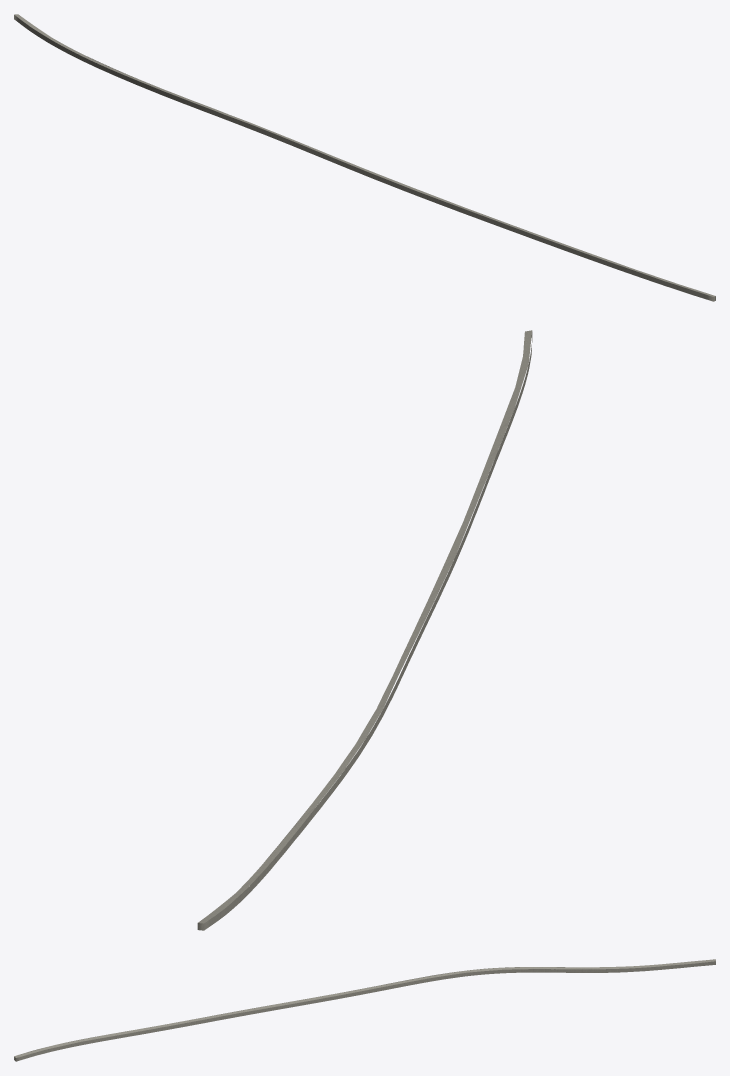
File: curb_05.glb
3 views of the same model, one above another, from view 1: azimuth 30°, elevation 25°; view 2: azimuth 150°, elevation 25°; view 3: azimuth 270°, elevation 25° (orthographic). The views are drawn at different scales.
Visible parts, largest first — view 1: curb_05.sides, curb_05.surface; view 2: curb_05.surface, curb_05.sides; view 3: curb_05.sides, curb_05.surface.
Boxes of the visible parts, x1,y1,x2,y2 form: curb_05.sides: [14, 15, 715, 301]; curb_05.surface: [14, 14, 715, 296]; curb_05.surface: [198, 330, 532, 923]; curb_05.sides: [197, 332, 532, 930]; curb_05.sides: [14, 961, 715, 1061]; curb_05.surface: [14, 959, 715, 1057].
Size of the model in its own units: 8.92 by 0.7282 by 28.61.
1 material, 1 textured.
